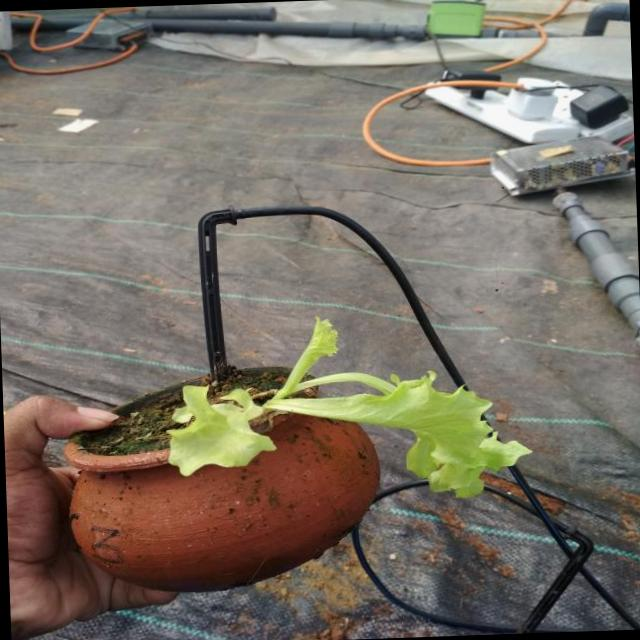Lettuce-Not-Ready-to-Harvest: (168, 320, 528, 496)
